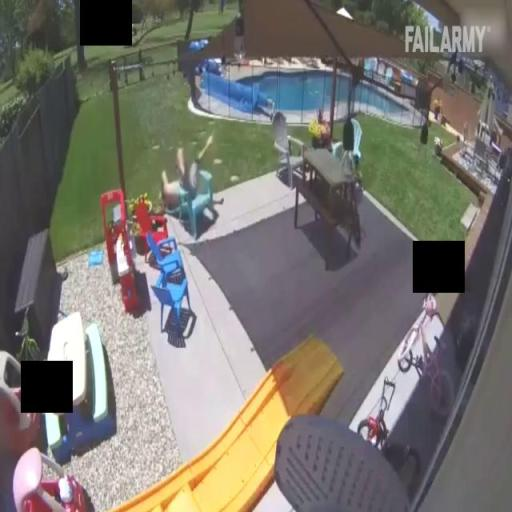Fall: (158, 129, 216, 210)
